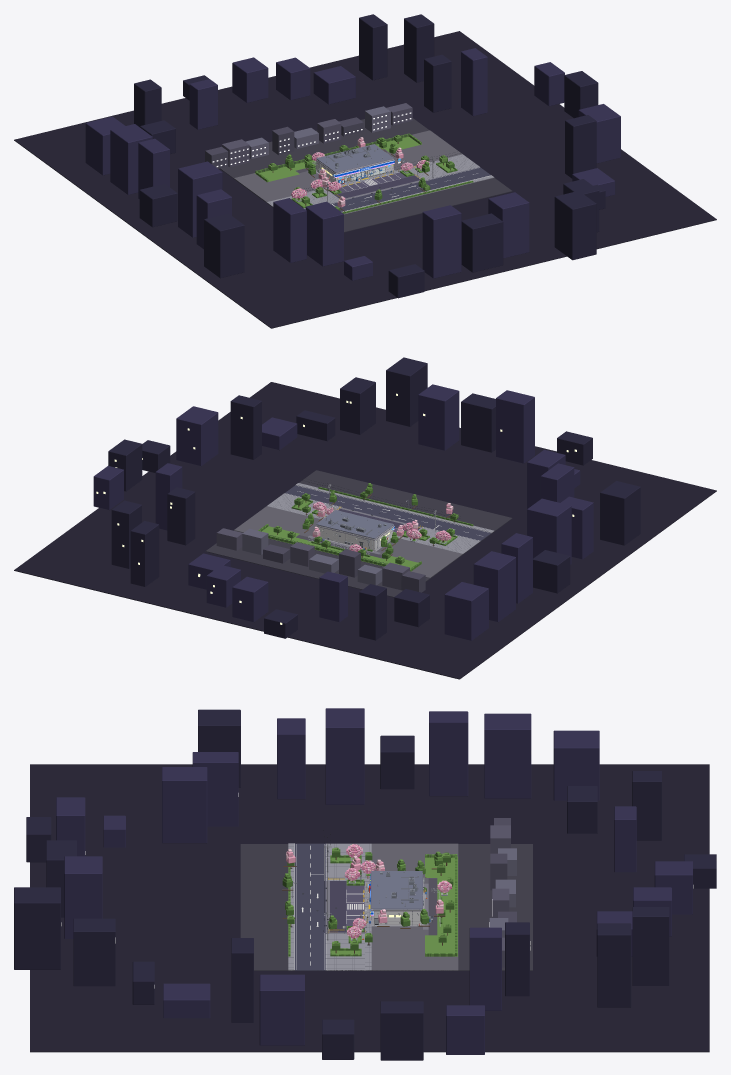
The model's file is lawson_scene.glb.
3 views of the same model, one above another, from view 1: azimuth 30°, elevation 25°; view 2: azimuth 150°, elevation 25°; view 3: azimuth 270°, elevation 25° (orthographic). The views are drawn at different scales.
Visible parts, largest first — view 1: envGroundPlate, groundBase, distantLowPolyBuildings, envBlock_33, rearYard, envBlock_02, envBlock_28, envBlock_00, envBlock_30, envBlock_26, envBlock_23, envBlock_29 (+27 smaller); view 2: envGroundPlate, groundBase, distantLowPolyBuildings, rearYard, envBlock_33, envBlock_01, envBlock_28, envBlock_02, envBlock_22, envBlock_07, envBlock_26, envBlock_23 (+29 smaller); view 3: envGroundPlate, groundBase, rearYard, envBlock_23, asphaltRoad, envBlock_02, envBlock_26, envBlock_30, envBlock_24, envBlock_07, envBlock_14, envBlock_13 (+34 smaller).
Part boxes in pixels (box(x1,y1,x2,y2)): envGroundPlate: box(14, 31, 716, 328); groundBase: box(220, 118, 512, 232); distantLowPolyBuildings: box(205, 103, 412, 168); envBlock_33: box(422, 205, 461, 278); rearYard: box(234, 130, 462, 201); envBlock_02: box(554, 191, 596, 260); envBlock_28: box(204, 213, 244, 278); envBlock_00: box(461, 213, 503, 272); envBlock_30: box(305, 201, 343, 266); envBlock_26: box(178, 161, 222, 237); envBlock_23: box(110, 124, 152, 194); envBlock_29: box(273, 198, 306, 262); envGroundPlate: box(14, 382, 716, 679); groundBase: box(205, 470, 512, 597); distantLowPolyBuildings: box(216, 528, 425, 592); rearYard: box(234, 506, 462, 577); envBlock_33: box(496, 390, 534, 463); envBlock_01: box(418, 384, 459, 450); envBlock_28: box(600, 481, 640, 545); envBlock_02: box(386, 357, 427, 426); envBlock_22: box(444, 582, 488, 640); envBlock_07: box(176, 406, 218, 466); envBlock_26: box(527, 498, 571, 564); envBlock_23: box(473, 551, 515, 622); envGroundPlate: box(30, 764, 709, 1052); groundBase: box(240, 844, 532, 970); rearYard: box(371, 843, 458, 970); envBlock_23: box(484, 713, 531, 798); asphaltRoad: box(295, 843, 325, 970); envBlock_02: box(14, 887, 60, 969); envBlock_26: box(325, 708, 364, 804); envBlock_30: box(162, 767, 207, 843); envBlock_24: box(429, 711, 468, 796); envBlock_07: box(259, 974, 304, 1045); envBlock_14: box(632, 907, 669, 985); envBlock_13: box(597, 923, 631, 1007).
Bounding box in the file's own units: 206 × 25.6 × 207.
